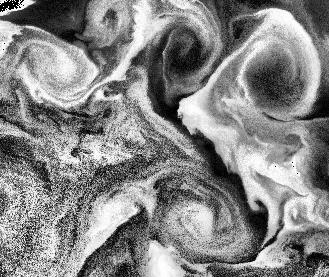AE: (160, 177, 249, 263), (236, 23, 317, 116), (17, 31, 97, 109), (148, 5, 205, 85)
